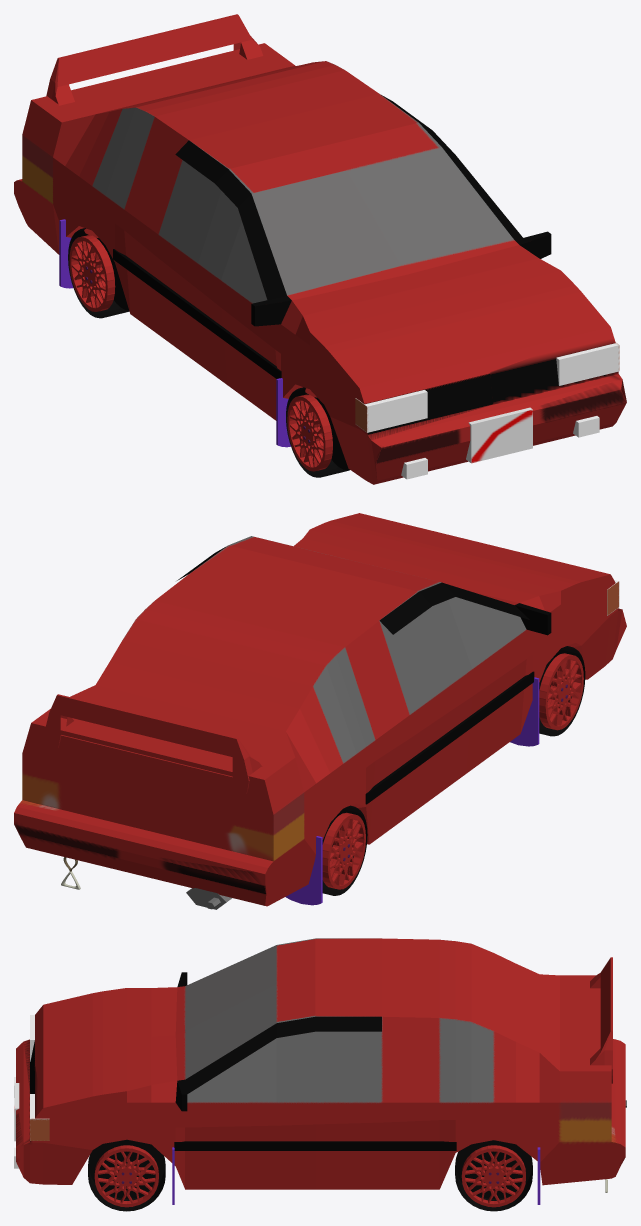
Rendered from toy_car.glb.
The picture shows the model from 3 angles, top to bottom: view 1: azimuth 30°, elevation 25°; view 2: azimuth 150°, elevation 25°; view 3: azimuth 270°, elevation 25°; orthographic projection. The views are drawn at different scales.
Visible parts, largest first — view 1: car_base; view 2: car_base; view 3: car_base.
Part boxes in pixels (x1=…): car_base: x1=14, y1=14, x2=626, y2=484; car_base: x1=14, y1=513, x2=626, y2=909; car_base: x1=14, y1=938, x2=626, y2=1211.
Bounding box in the file's own units: 3.39 × 2.37 × 7.21.
12 materials, 12 textured.
